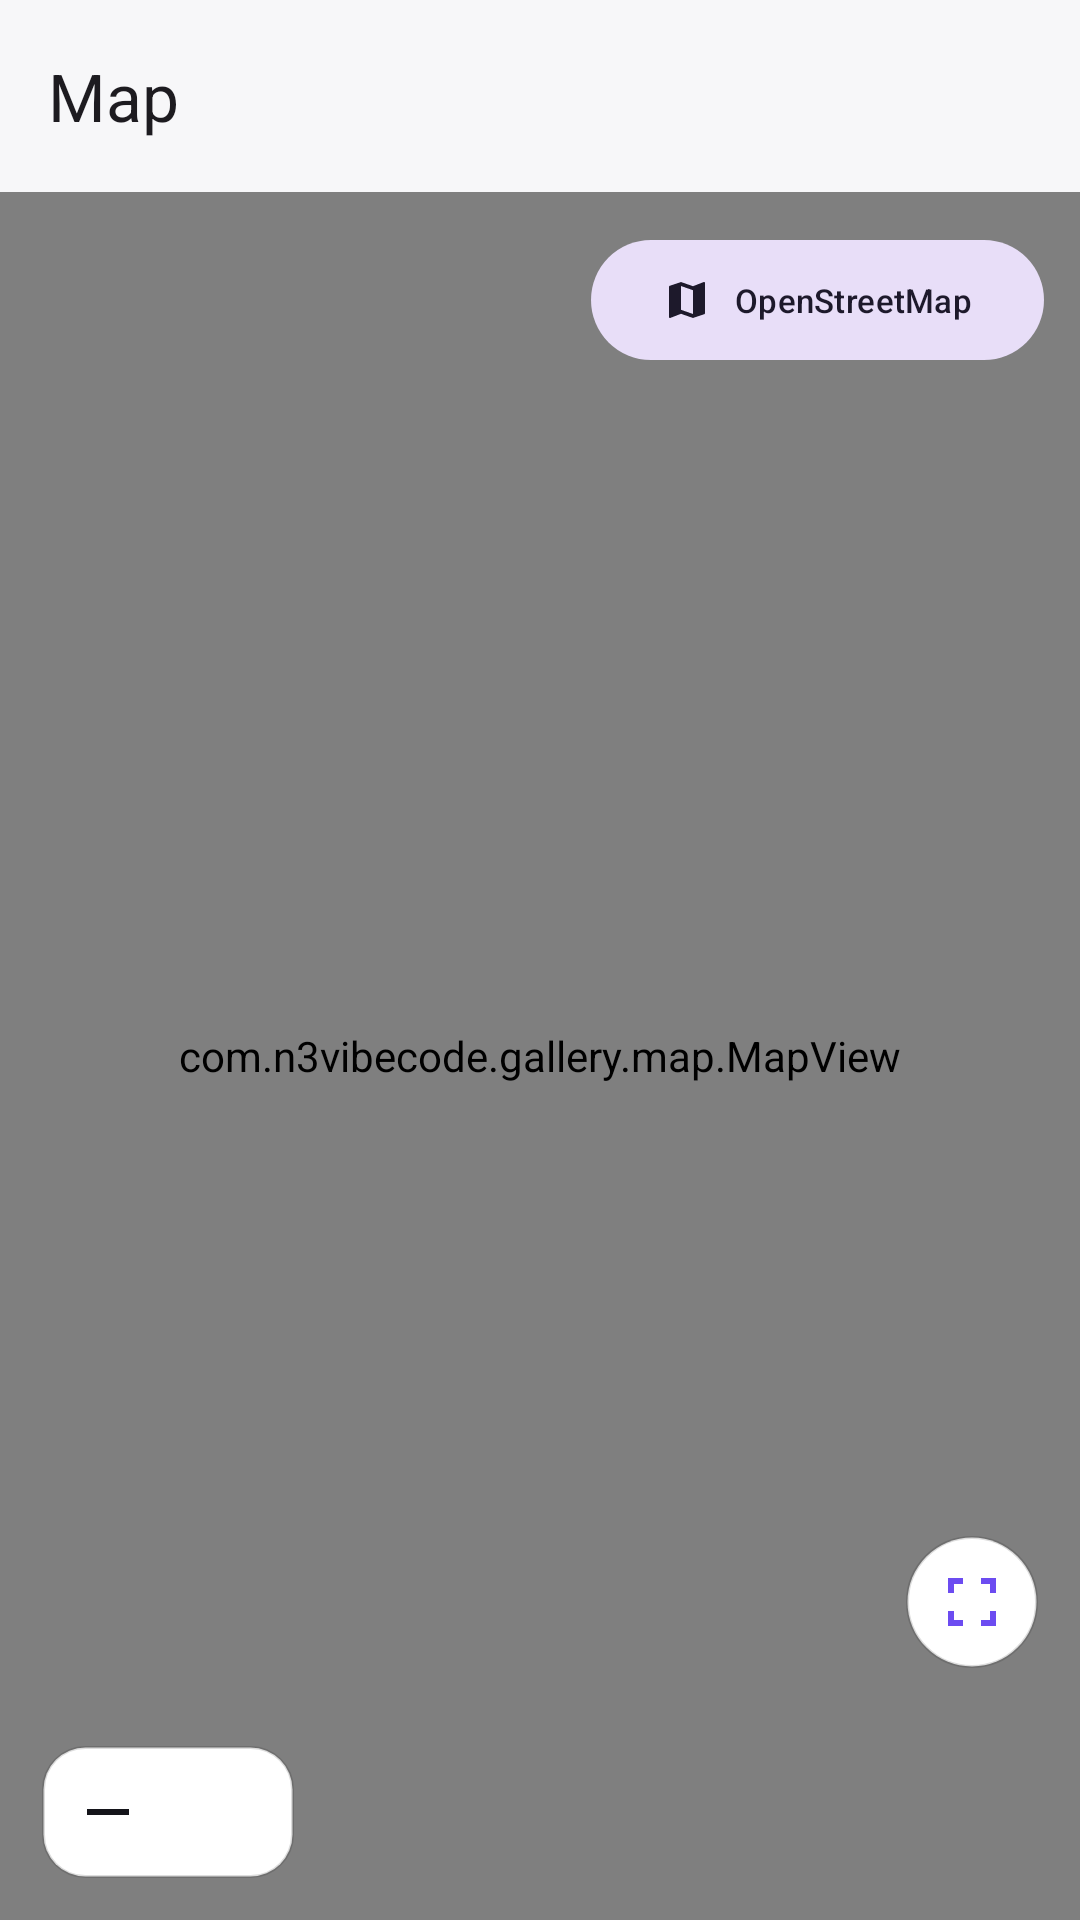

Icons on this 1080 x 1920 Android screen, each with the point to tap as (x=x, y=y):
Fit all photos: (x=972, y=1602)
Zoom out: (x=108, y=1812)
